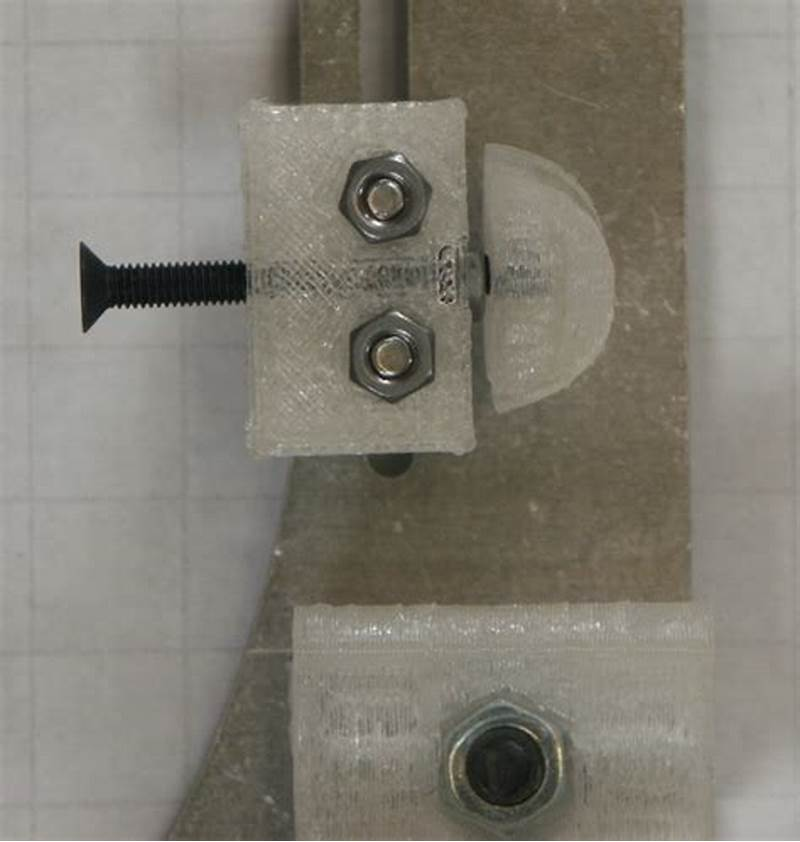bolt_b: (434, 684, 570, 833), (337, 146, 433, 245), (345, 306, 440, 404)
